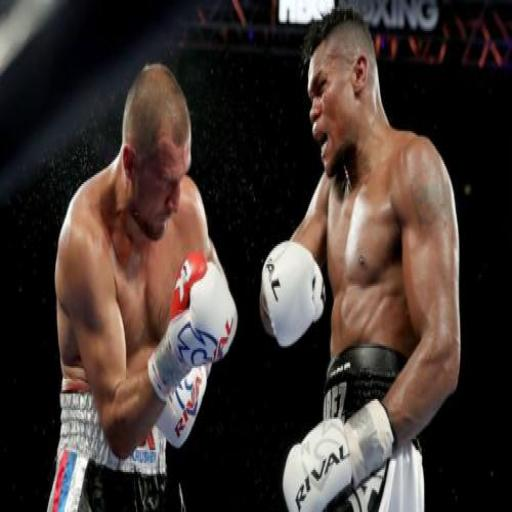boxing: (258, 6, 462, 510), (37, 60, 238, 510)
